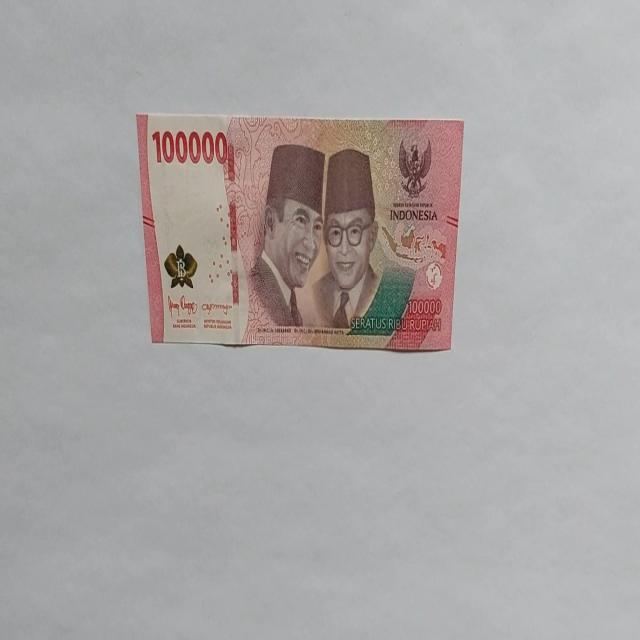seratus ribu rupiah: (136, 111, 464, 351), (241, 142, 325, 342)
